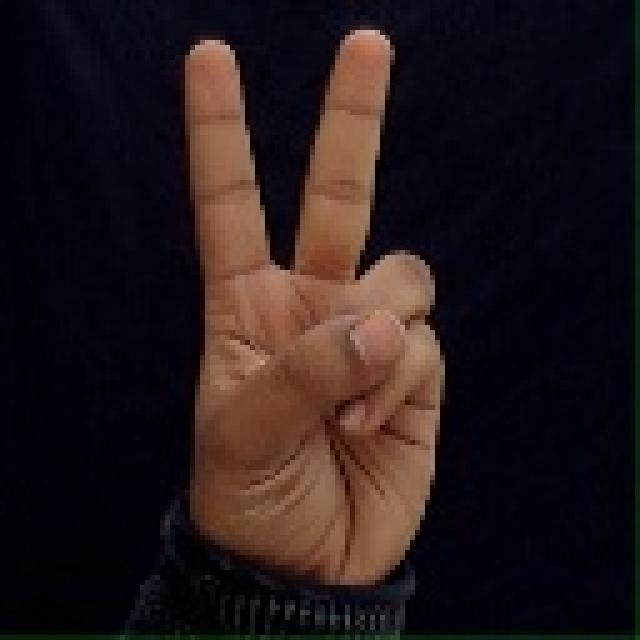Numeric-2: (178, 29, 444, 576)
